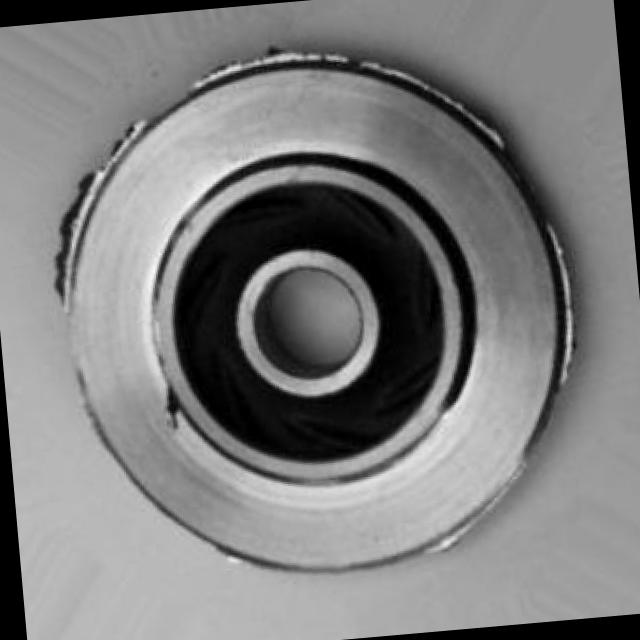Defect: (155, 379, 186, 426)
